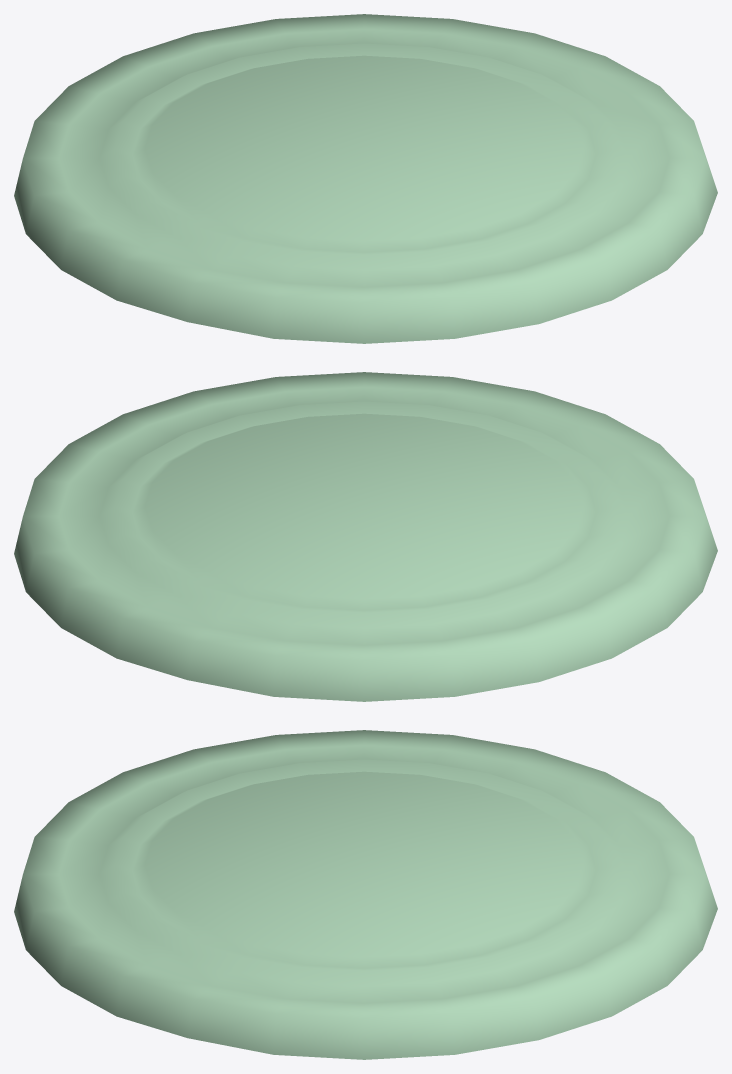
The model's file is button.fbx.
The picture shows the model from 3 angles, top to bottom: view 1: azimuth 30°, elevation 25°; view 2: azimuth 150°, elevation 25°; view 3: azimuth 270°, elevation 25°; orthographic projection.
Parts seen in each view (by area): view 1: button_low; view 2: button_low; view 3: button_low.
Boxes of the visible parts, x1,y1,x2,y2 form: button_low: (14,14,717,343); button_low: (14,372,717,701); button_low: (14,730,717,1059).
Size of the model in its own units: 84.86 by 85.26 by 6.36.
